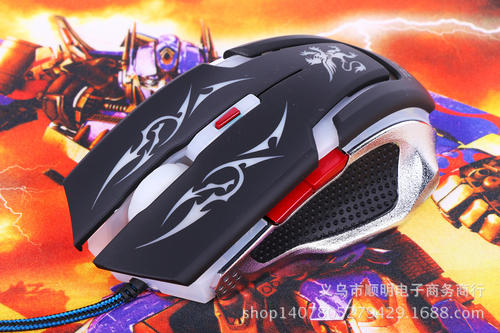mouse: (64, 35, 442, 301)
